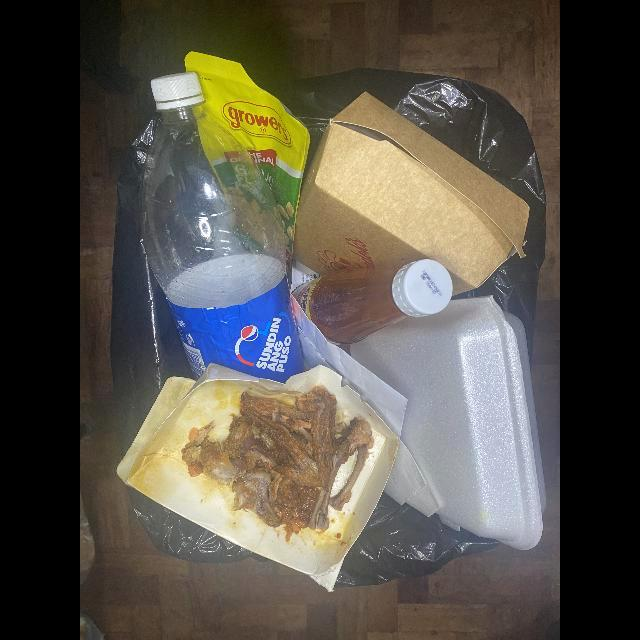cardboard: (116, 364, 399, 593), (293, 92, 530, 296)
food_wrapper: (184, 51, 311, 263)
glass_bottle: (292, 259, 453, 346)
left_over_food: (183, 386, 374, 539)
paper: (292, 292, 409, 439)
plastic_bottle: (143, 73, 303, 384)
